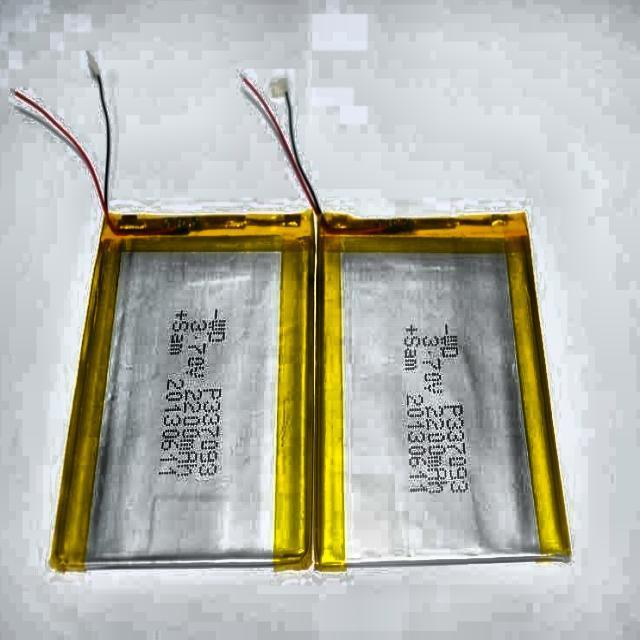battery: (50, 213, 314, 570), (316, 213, 568, 569)
